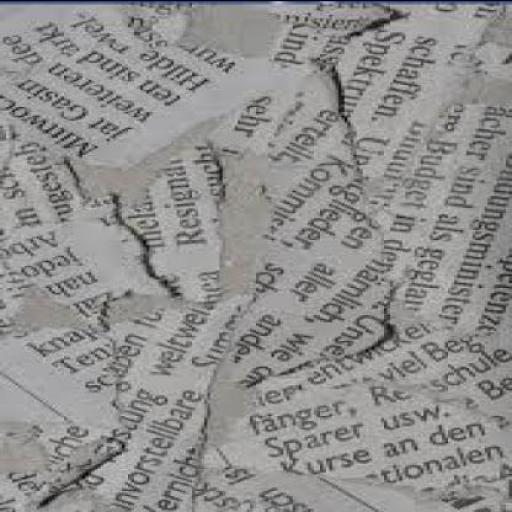paper: (0, 2, 510, 511), (226, 101, 393, 388), (0, 2, 254, 169), (381, 104, 509, 346), (113, 136, 216, 290), (268, 6, 381, 70)
